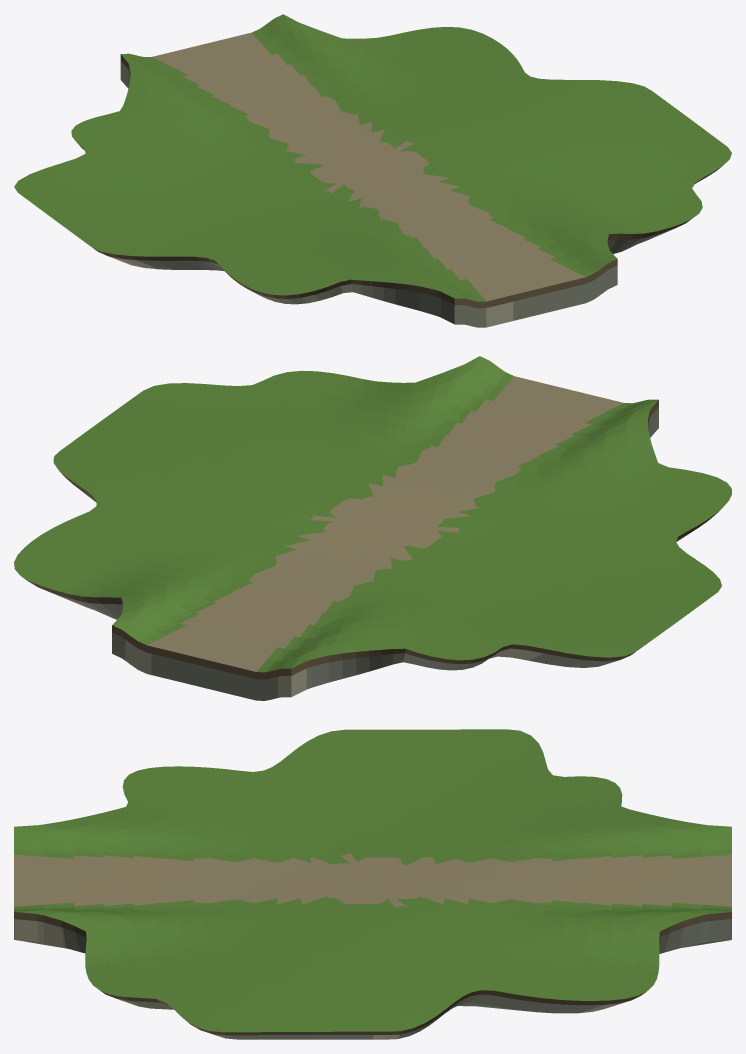
Rendered from stone_sentinels_structure.fbx.
The picture shows the model from 3 angles, top to bottom: view 1: azimuth 30°, elevation 25°; view 2: azimuth 150°, elevation 25°; view 3: azimuth 270°, elevation 25°; orthographic projection. The views are drawn at different scales.
Parts seen in each view (by area): view 1: chunk_stone_sentinels; view 2: chunk_stone_sentinels; view 3: chunk_stone_sentinels.
Part boxes in pixels (x1,y1,x2,y2): chunk_stone_sentinels: [14, 14, 731, 327]; chunk_stone_sentinels: [14, 356, 731, 700]; chunk_stone_sentinels: [14, 729, 731, 1039].
Size of the model in its own units: 256 by 47.5 by 256.
